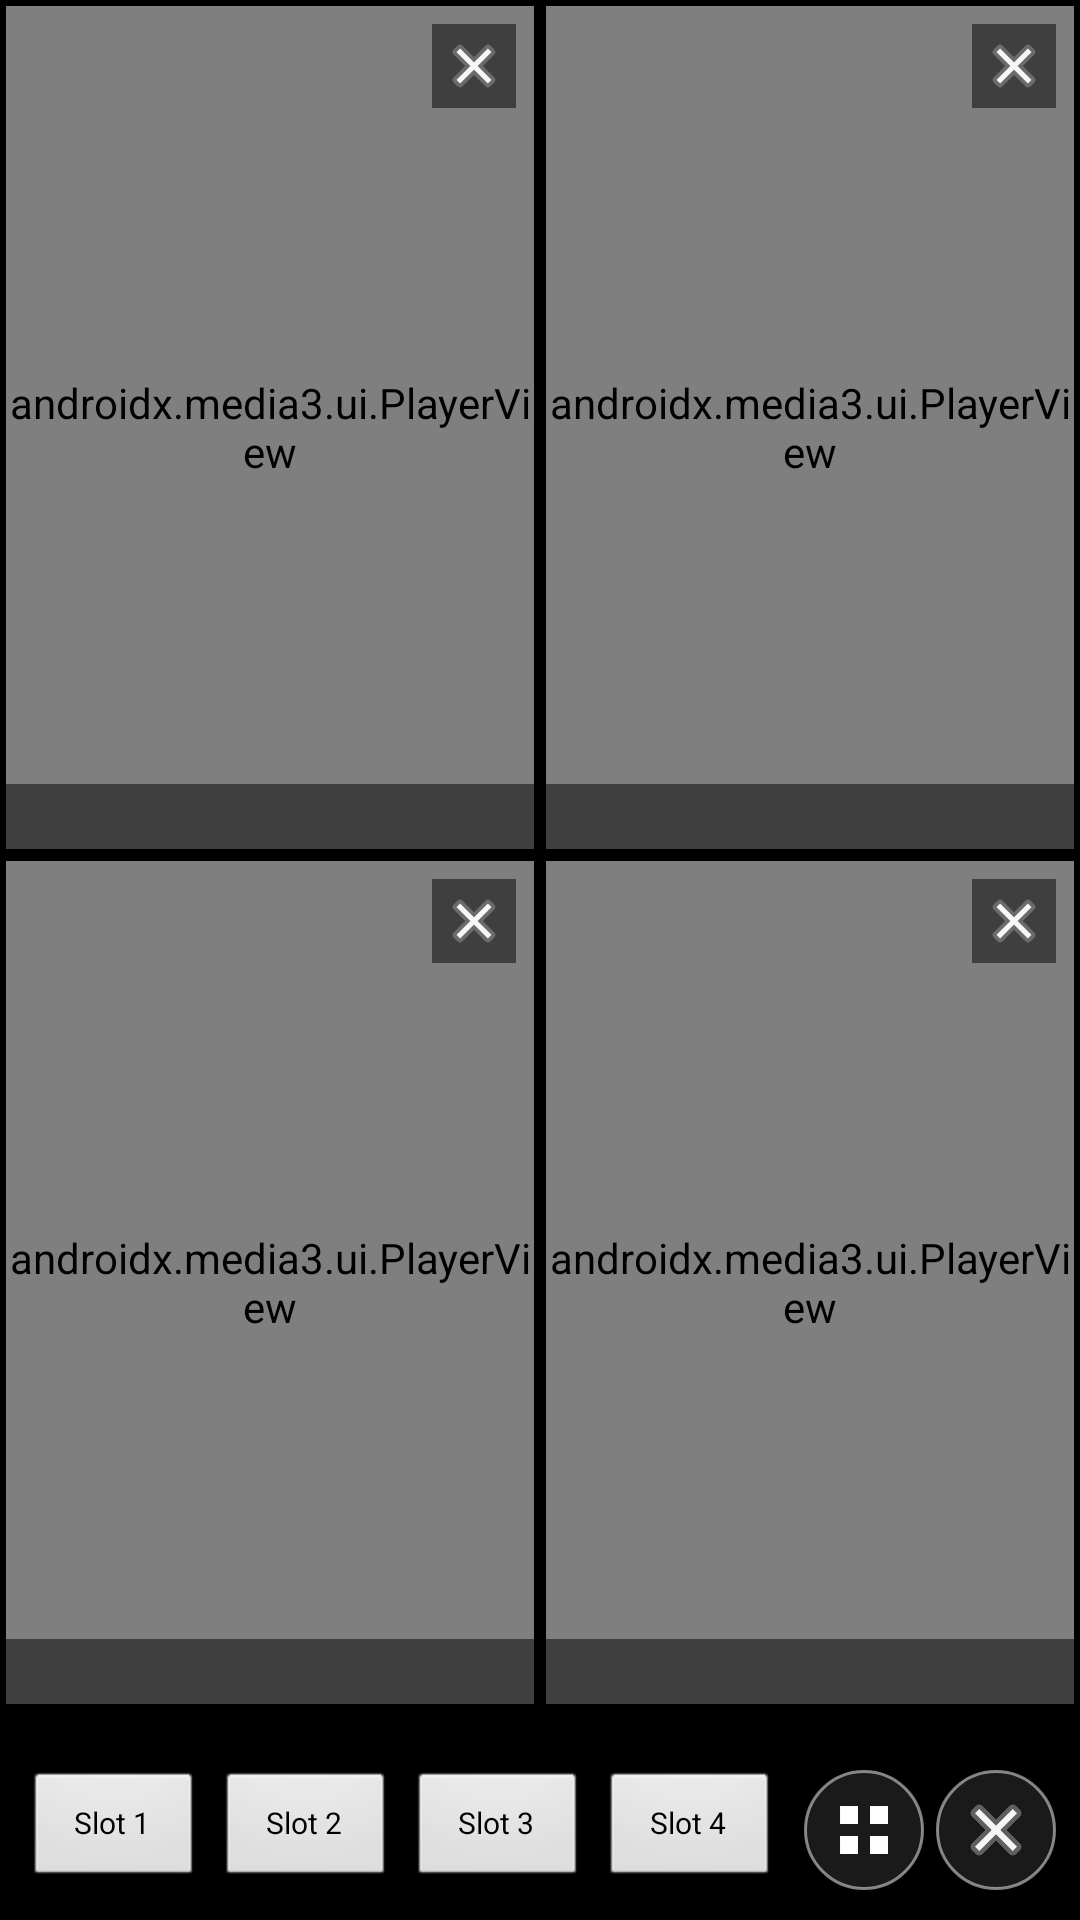

Where to tap for icons on this 1080*1920 app screen, as (x=x, y=y):
Ganti layout: (x=864, y=1830)
